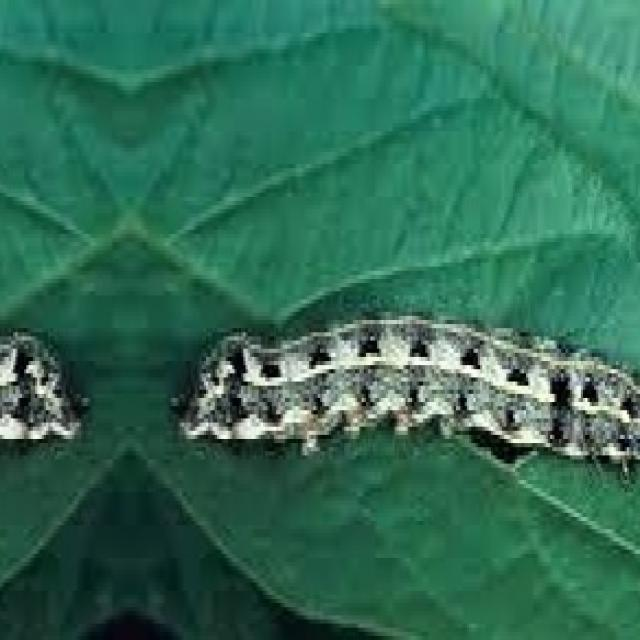Armyworm: (164, 273, 640, 587), (1, 243, 87, 504)
